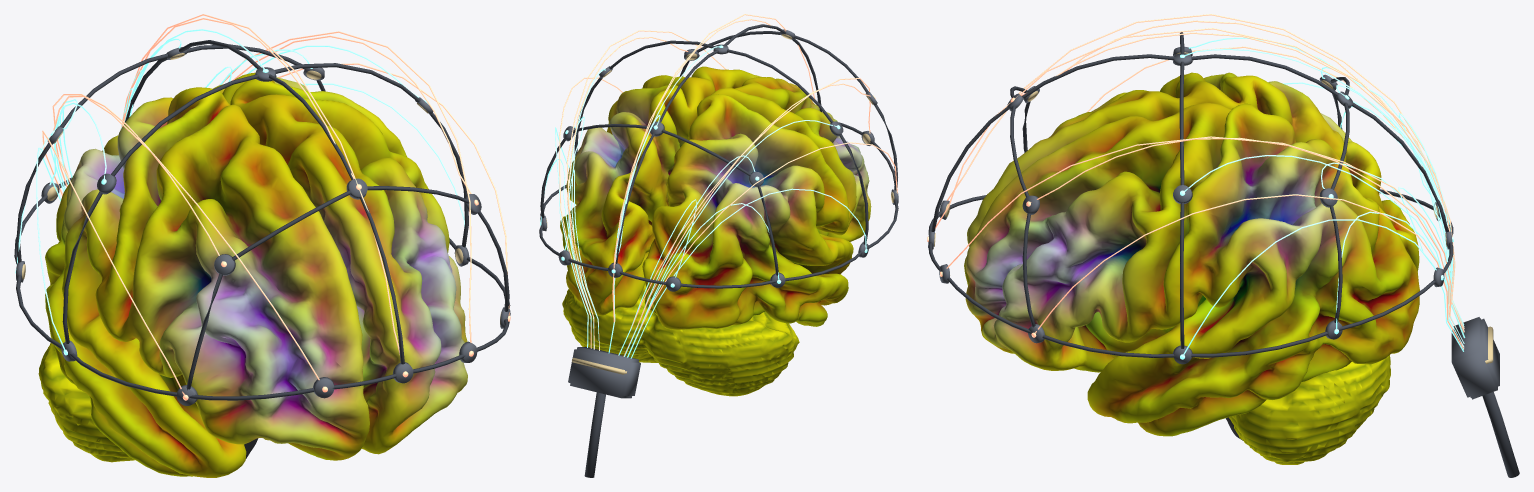
Rendered from artifact-eeg-field.glb.
The picture shows the model from 3 angles, left to right: view 1: azimuth 30°, elevation 25°; view 2: azimuth 150°, elevation 25°; view 3: azimuth 270°, elevation 25°; orthographic projection. The views are drawn at different scales.
Parts seen in each view (by area): view 1: Cortex_Left, Cortex_Right, Cerebellum, EEG_Cap_Strap_4, EEG_Cap_Strap_1, EEG_Cap_Strap_2, EEG_Cap_Strap_0, EEG_Cap_Strap_3, EEG_Lead_Fpz, EEG_Lead_Fp1, EEG_Lead_Fp2, EEG_Lead_F8 (+5 smaller); view 2: Cortex_Left, Cortex_Right, Cerebellum, EEG_Amplifier_Pod, EEG_Cap_Strap_4, EEG_Cap_Strap_1, EEG_Cap_Strap_3, EEG_Cap_Strap_0, EEG_Cap_Strap_2, EEG_Main_Trunk, EEG_Lead_Fpz, EEG_Lead_Fp1 (+11 smaller); view 3: Cortex_Right, Cortex_Left, Cerebellum, EEG_Amplifier_Pod, EEG_Cap_Strap_4, EEG_Cap_Strap_0, EEG_Lead_Fpz, EEG_Cap_Strap_1, EEG_Lead_Fp1, EEG_Cap_Strap_2, EEG_Lead_Fp2, EEG_Cap_Strap_3 (+8 smaller).
Boxes of the visible parts, x1,y1,x2,y2 form: Cortex_Left: (45, 87, 369, 477); Cortex_Right: (213, 72, 467, 454); Cerebellum: (38, 343, 134, 462); EEG_Cap_Strap_4: (14, 177, 510, 400); EEG_Cap_Strap_1: (62, 63, 468, 343); EEG_Cap_Strap_2: (186, 186, 509, 390); EEG_Cap_Strap_0: (125, 40, 404, 364); EEG_Cap_Strap_3: (16, 44, 325, 262); EEG_Lead_Fpz: (120, 14, 399, 354); EEG_Lead_Fp1: (219, 31, 471, 350); EEG_Lead_Fp2: (52, 94, 323, 386); EEG_Lead_F8: (42, 130, 184, 395); Cortex_Left: (642, 77, 871, 329); Cortex_Right: (560, 66, 761, 315); Cerebellum: (562, 283, 799, 396); EEG_Amplifier_Pod: (568, 347, 640, 398); EEG_Cap_Strap_4: (539, 122, 898, 288); EEG_Cap_Strap_1: (574, 40, 868, 244); EEG_Cap_Strap_3: (540, 124, 778, 275); EEG_Cap_Strap_0: (615, 24, 821, 263); EEG_Cap_Strap_2: (679, 31, 897, 190); EEG_Main_Trunk: (584, 392, 605, 477); EEG_Lead_Fpz: (612, 14, 818, 322); EEG_Lead_Fp1: (566, 30, 726, 350); Cortex_Right: (965, 102, 1419, 436); Cortex_Left: (964, 72, 1419, 285); Cerebellum: (1229, 355, 1390, 464); EEG_Amplifier_Pod: (1451, 317, 1499, 399); EEG_Cap_Strap_4: (928, 189, 1453, 357); EEG_Cap_Strap_0: (931, 54, 1448, 233); EEG_Lead_Fpz: (935, 28, 1455, 303); EEG_Cap_Strap_1: (1179, 32, 1184, 348); EEG_Lead_Fp1: (942, 136, 1458, 333); EEG_Cap_Strap_2: (1010, 86, 1035, 327); EEG_Lead_Fp2: (947, 14, 1464, 332); EEG_Cap_Strap_3: (1330, 77, 1349, 322).
Size of the model in its own units: 2.97 by 3.38 by 4.04.
